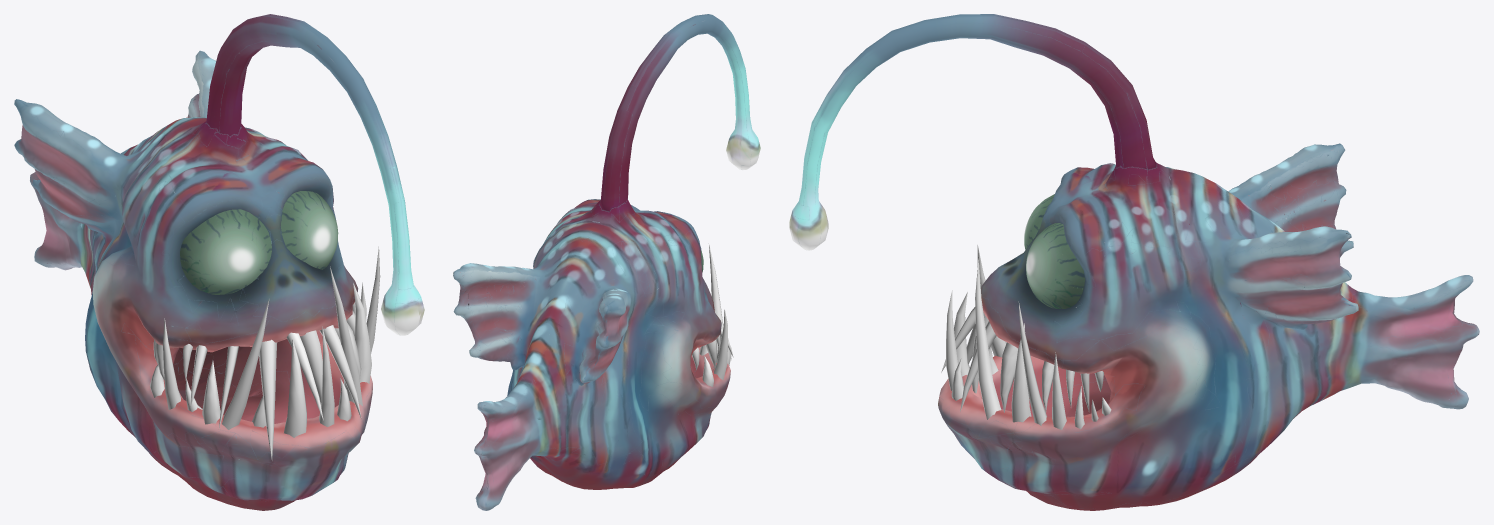
File: workna2.glb
3 renders of one model, left to right at view 1: azimuth 30°, elevation 25°; view 2: azimuth 150°, elevation 25°; view 3: azimuth 270°, elevation 25°, orthographic. The views are drawn at different scales.
Parts seen in each view (by area): view 1: Cylinder.006, Cylinder.008, Sphere.006; view 2: Cylinder.006, Cylinder.008; view 3: Cylinder.006, Cylinder.008, Sphere.006.
Boxes of the visible parts, left/top/right/bottom form: Cylinder.006: left=14, top=14, right=424, bottom=510; Cylinder.008: left=150, top=246, right=380, bottom=460; Sphere.006: left=180, top=191, right=338, bottom=294; Cylinder.006: left=453, top=14, right=760, bottom=510; Cylinder.008: left=692, top=244, right=733, bottom=386; Cylinder.006: left=789, top=14, right=1479, bottom=510; Cylinder.008: left=941, top=245, right=1111, bottom=429; Sphere.006: left=1024, top=194, right=1084, bottom=308.
Size of the model in its own units: 1.86 by 4.23 by 5.45.
Materials: 3 (2 with a texture image).
